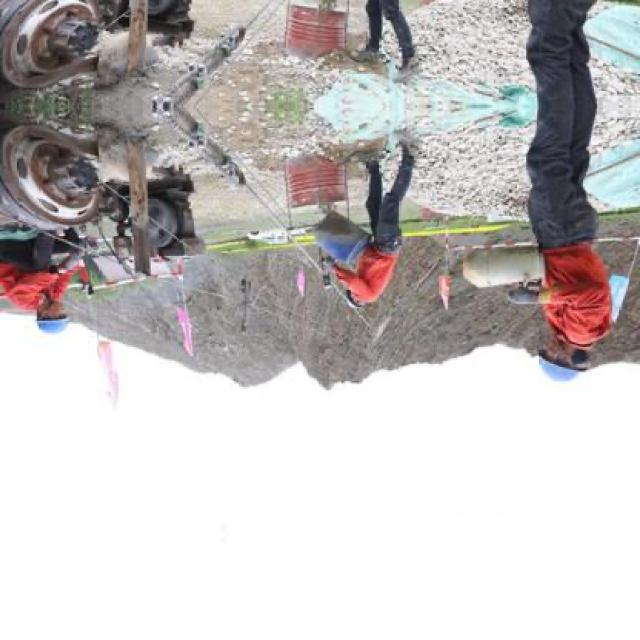con casco: (8, 276, 76, 364), (535, 326, 614, 395)
